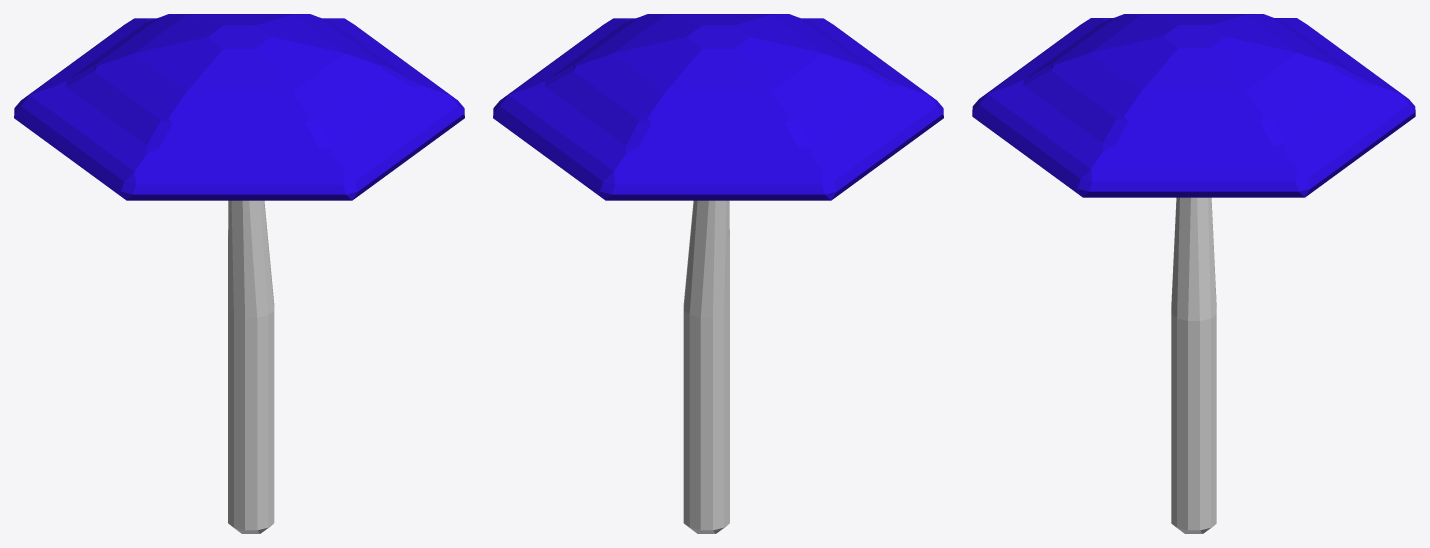
Rendered from Mushroom_02Big.fbx.
3 views of the same model, side by side, from view 1: azimuth 30°, elevation 25°; view 2: azimuth 150°, elevation 25°; view 3: azimuth 270°, elevation 25° (orthographic).
Parts seen in each view (by area): view 1: Mushroom_02Big; view 2: Mushroom_02Big; view 3: Mushroom_02Big.
Boxes of the visible parts, x1,y1,x2,y2 form: Mushroom_02Big: (14,14,464,533); Mushroom_02Big: (493,14,943,533); Mushroom_02Big: (972,14,1415,533).
Bounding box in the file's own units: 295 × 404 × 335.
